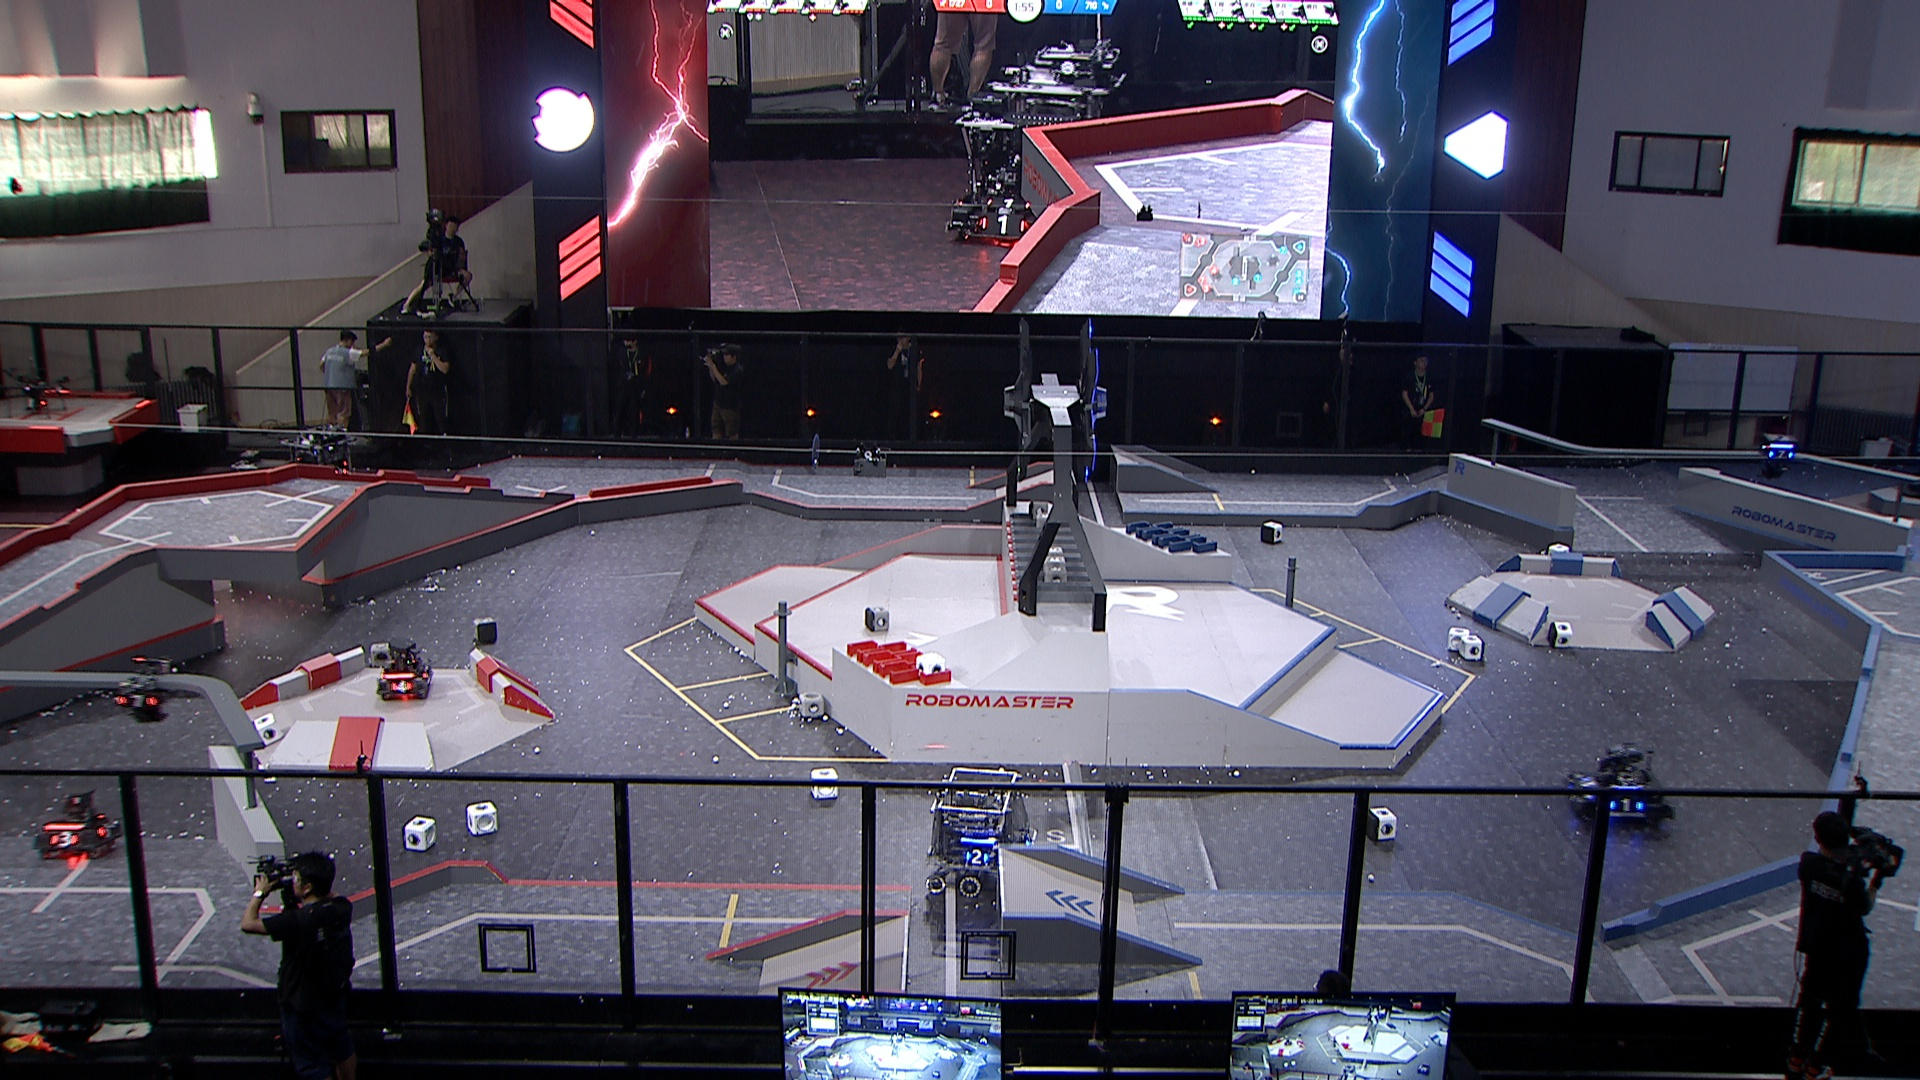armor: (115, 694, 160, 711), (49, 828, 79, 849), (1610, 796, 1644, 815), (1578, 774, 1600, 800), (964, 847, 992, 865), (98, 822, 116, 841), (392, 678, 414, 694), (1768, 448, 1793, 462)
car: (924, 764, 1036, 898), (1564, 744, 1679, 832), (280, 425, 357, 501), (32, 793, 119, 860), (225, 450, 294, 516), (373, 638, 434, 699)
ignore: (945, 40, 1126, 247)
watcher: (113, 655, 177, 723), (1760, 431, 1799, 480)
